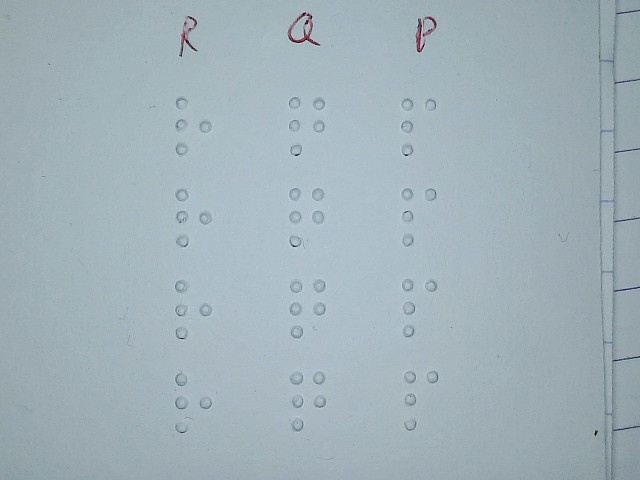P: (399, 94, 439, 158), (399, 184, 439, 248), (400, 275, 440, 339), (401, 367, 441, 431)
Q: (287, 94, 327, 158), (287, 184, 327, 248), (288, 276, 328, 340), (288, 368, 328, 432)
R: (174, 93, 214, 157), (174, 185, 214, 249), (173, 276, 213, 340), (173, 369, 213, 433)
